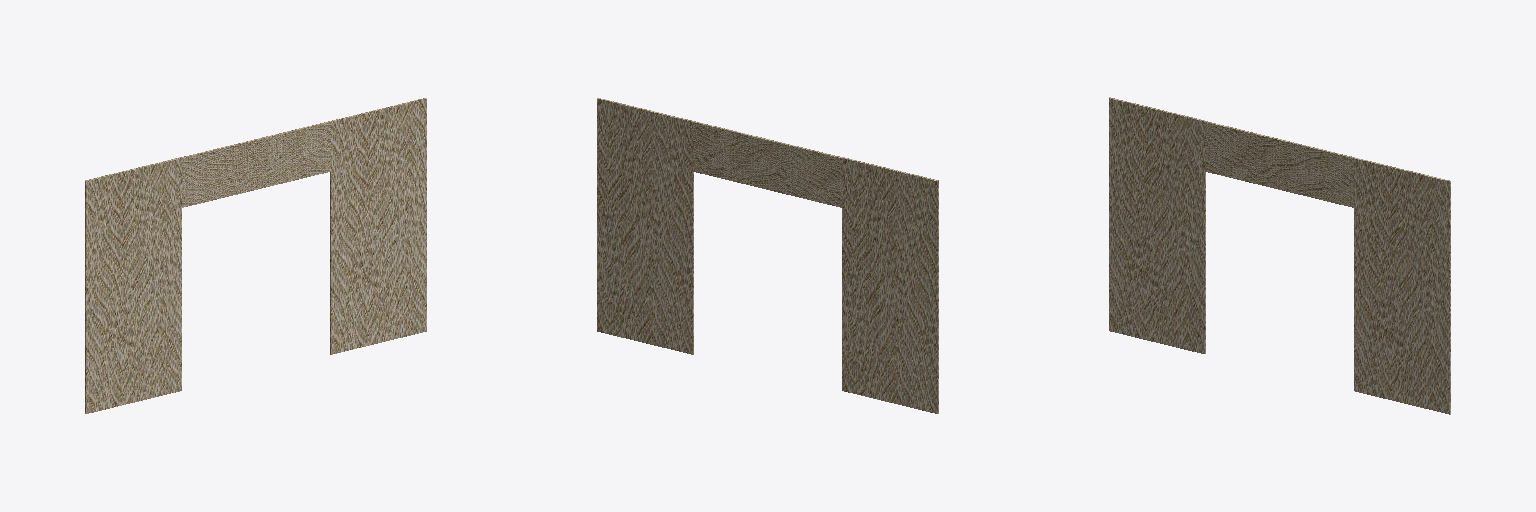
3 renders of one model, left to right at view 1: azimuth 30°, elevation 25°; view 2: azimuth 150°, elevation 25°; view 3: azimuth 330°, elevation 25°, orthographic.
Parts seen in each view (by area): view 1: Cubo.005, Cubo.002, Cubo.006; view 2: Cubo.005, Cubo.002, Cubo.006; view 3: Cubo.002, Cubo.005, Cubo.006.
Boxes of the visible parts, box(x1,y1,x2,y2) form: Cubo.005: box(85, 157, 181, 413); Cubo.002: box(330, 98, 426, 354); Cubo.006: box(182, 121, 330, 207); Cubo.005: box(842, 157, 938, 413); Cubo.002: box(597, 98, 693, 354); Cubo.006: box(693, 121, 841, 207); Cubo.002: box(1354, 158, 1450, 414); Cubo.005: box(1109, 97, 1205, 353); Cubo.006: box(1205, 121, 1354, 207).
Size of the model in its own units: 14.39 by 9.39 by 0.094.
2 materials, 1 textured.